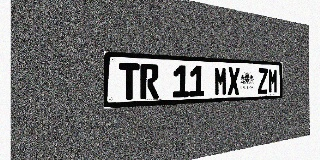1: (173, 65, 189, 98), (189, 65, 204, 97)
M: (214, 66, 227, 96), (268, 68, 278, 93)
R: (140, 64, 159, 99)
T: (119, 63, 139, 100)
X: (228, 67, 240, 95)
Z: (258, 68, 268, 94)
